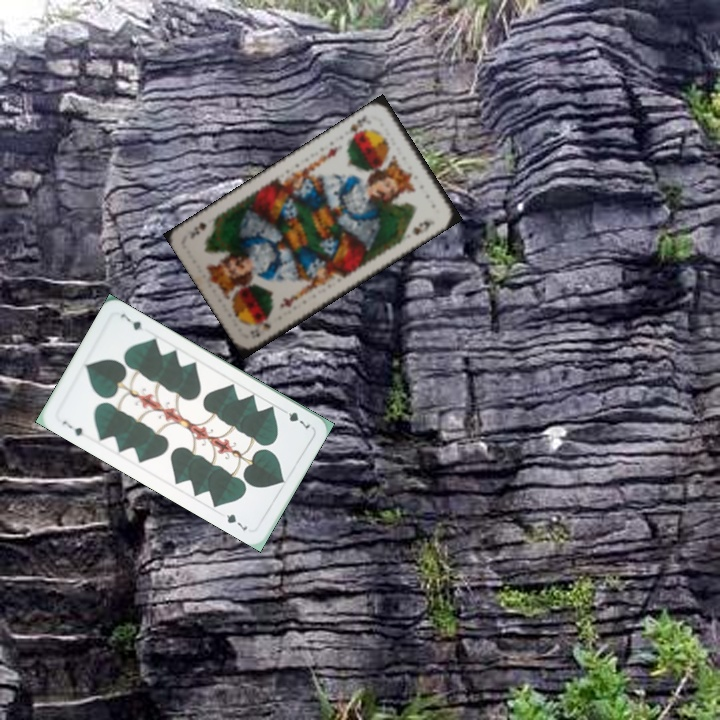G7: (277, 405, 313, 431), (58, 416, 85, 439)
SK: (344, 111, 369, 142), (246, 318, 274, 341)
